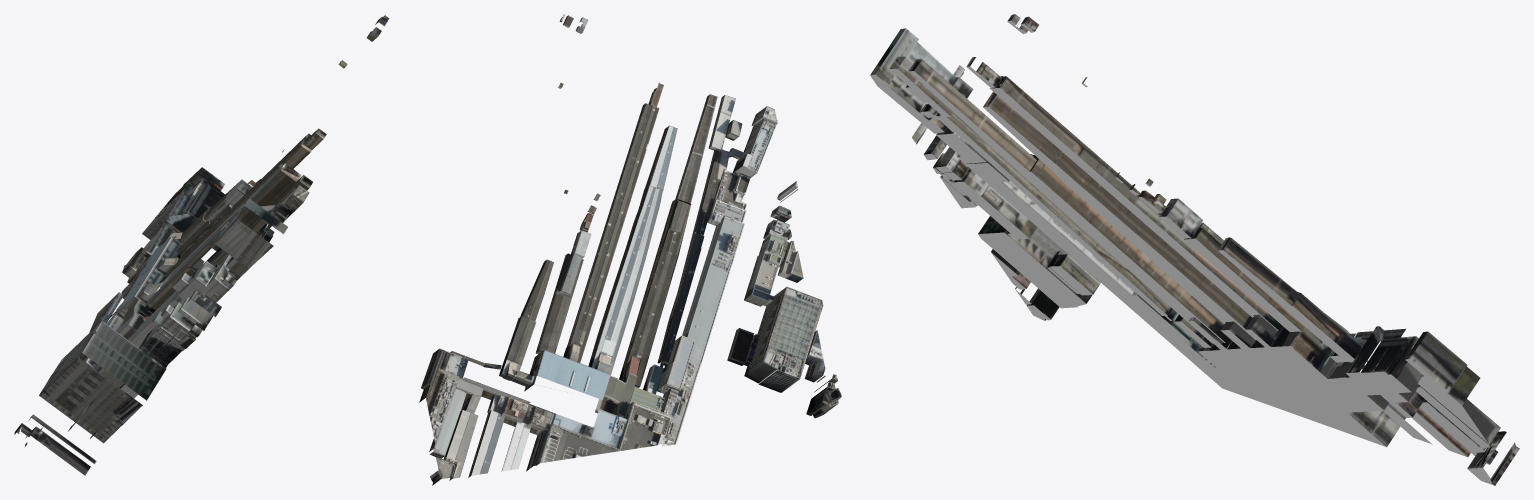
File: 19764_bldg_Building.glb
3 views of the same model, side by side, from view 1: azimuth 30°, elevation 25°; view 2: azimuth 150°, elevation 25°; view 3: azimuth 270°, elevation 25° (orthographic). The views are drawn at different scales.
Parts seen in each view (by area): view 1: Mesh_0; view 2: Mesh_0; view 3: Mesh_0.
Boxes of the visible parts, x1,y1,x2,y2 form: Mesh_0: (14, 14, 389, 475); Mesh_0: (419, 14, 841, 485); Mesh_0: (870, 14, 1519, 485).
Size of the model in its own units: 204 by 225 by 271.
Materials: 4 (3 with a texture image).
